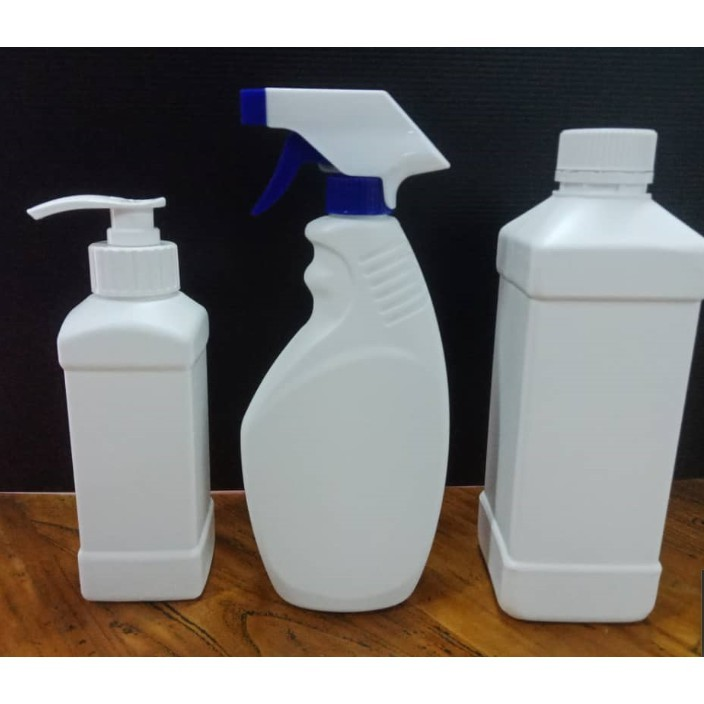plastic: (227, 84, 456, 621)
